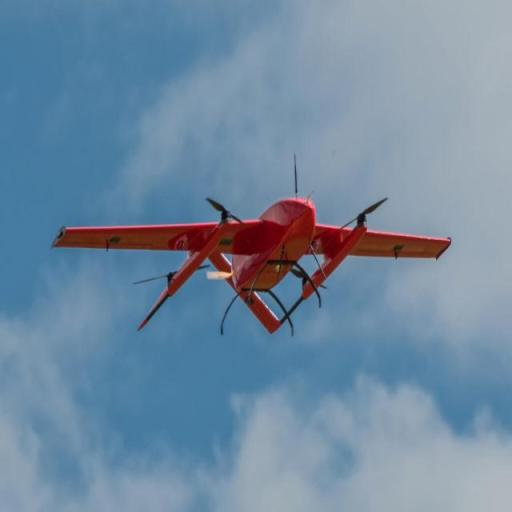uav: (37, 176, 460, 366)
